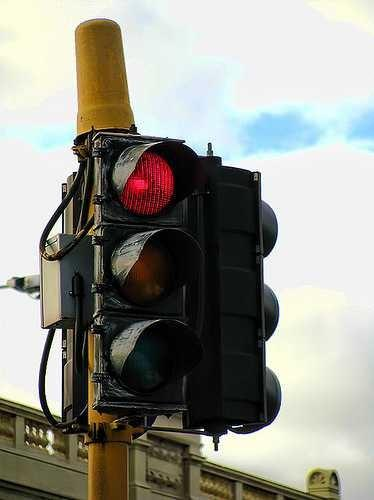red: (100, 122, 198, 406), (106, 131, 188, 227)
